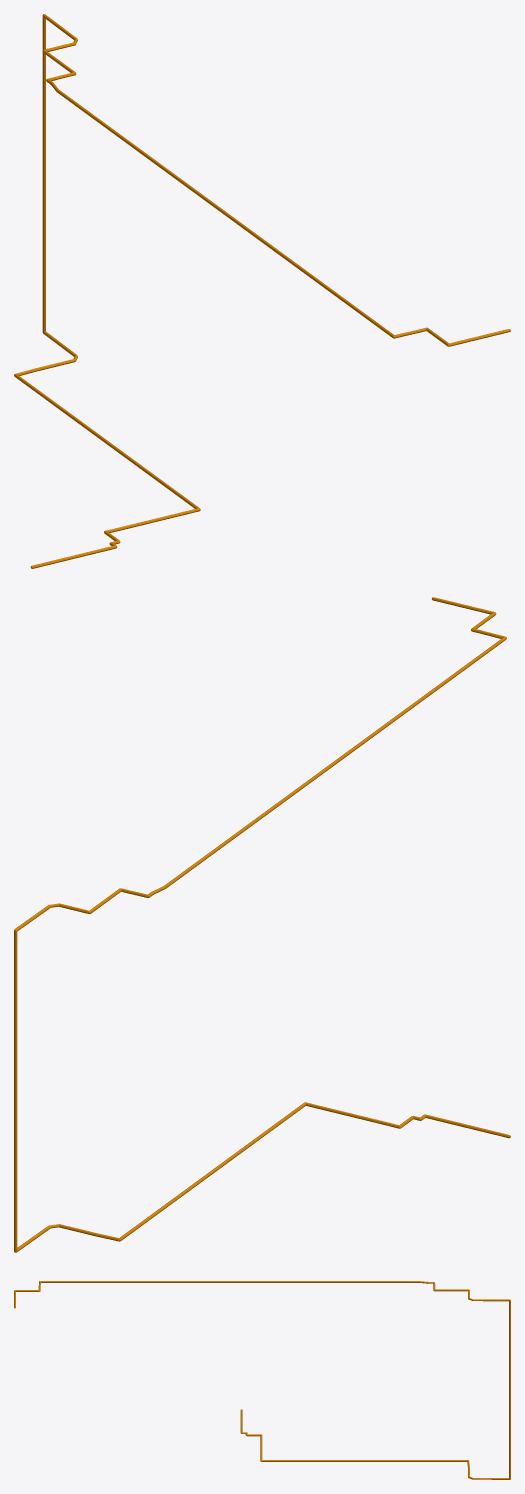
3 views of the same model, one above another, from view 1: azimuth 30°, elevation 25°; view 2: azimuth 150°, elevation 25°; view 3: azimuth 270°, elevation 25° (orthographic). The views are drawn at different scales.
Bounding box in the file's own units: 1844 × 2020 × 5044.
